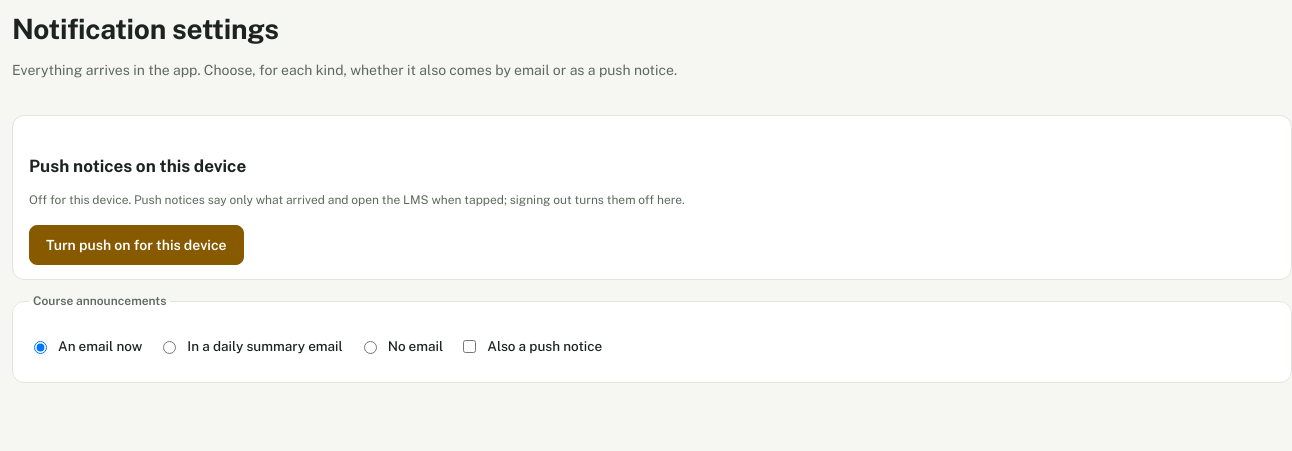
push notices on this device (item 4.04) › chooses, kind by kind, whether a notice is also pushed
The width and height of the screenshot is (1292, 451).
Click the checkbox labelled "Also a push notice": point(470, 346) [463,340,476,353]
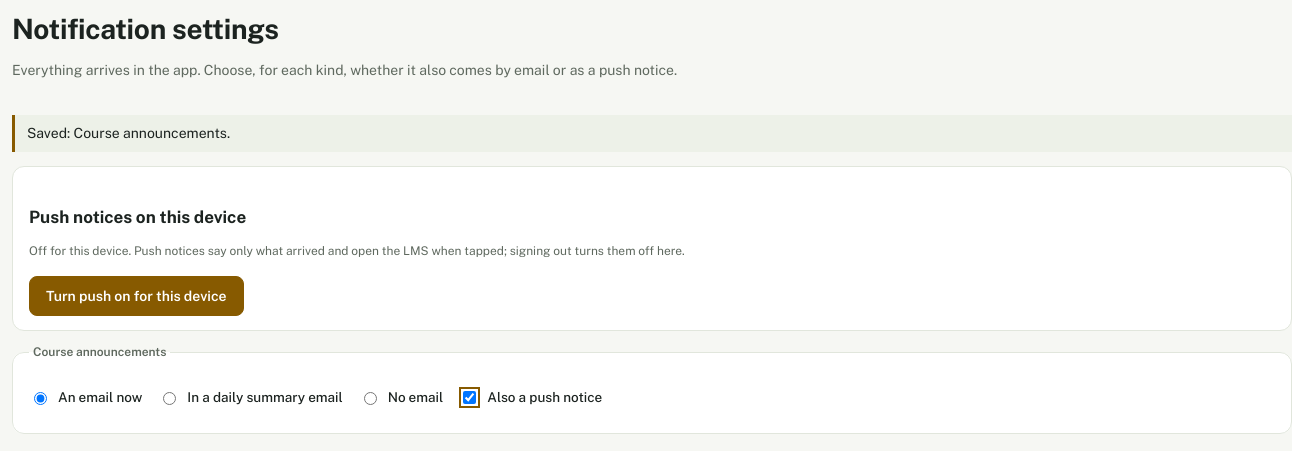
Result: the checkbox labelled "Also a push notice" is checked at [463,391,476,404]
Result: the text "Saved: Course announcements." is shown at [12,115,1291,152]
